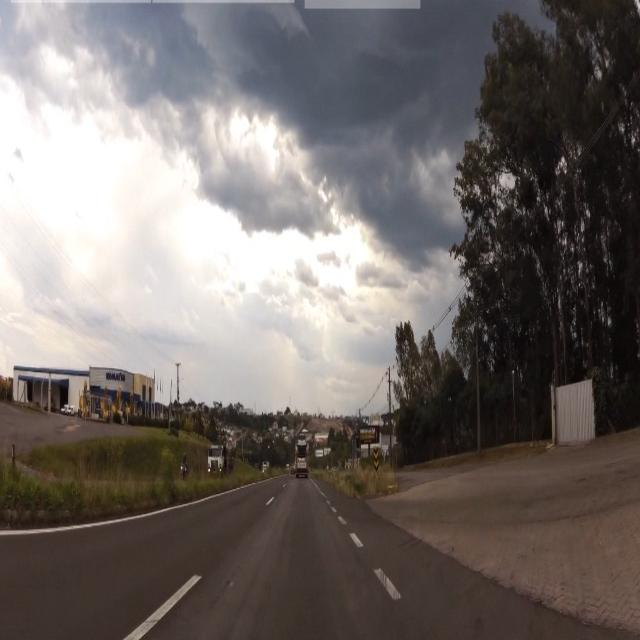MP: (373, 446, 379, 474)
